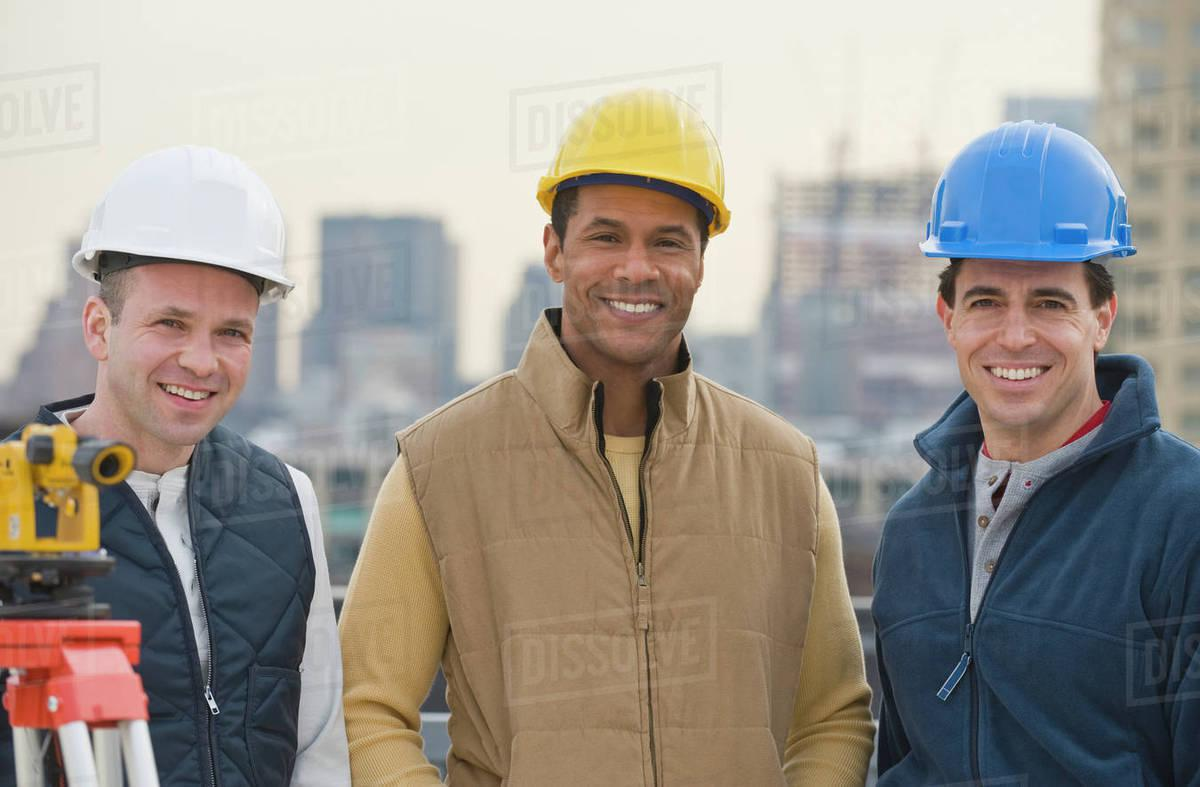hardhat: (917, 120, 1142, 260), (74, 145, 290, 290), (538, 86, 742, 213)
worker: (341, 84, 878, 787), (1, 143, 352, 787), (865, 116, 1200, 786)
